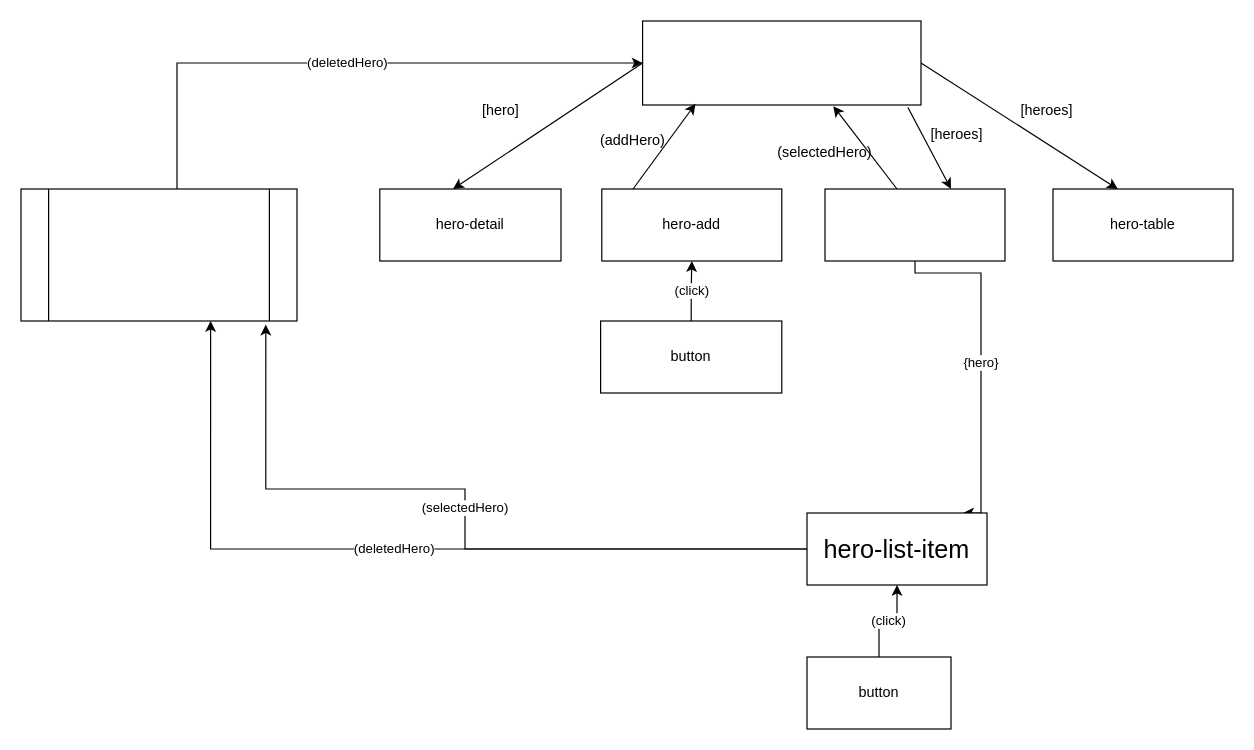
Image size: 1254x750. Some labels were removed from this diagram. Each missing label, with the centre of its shape:
app-heroes: (781,62)
hero-list: (914,224)
services: (158,254)
